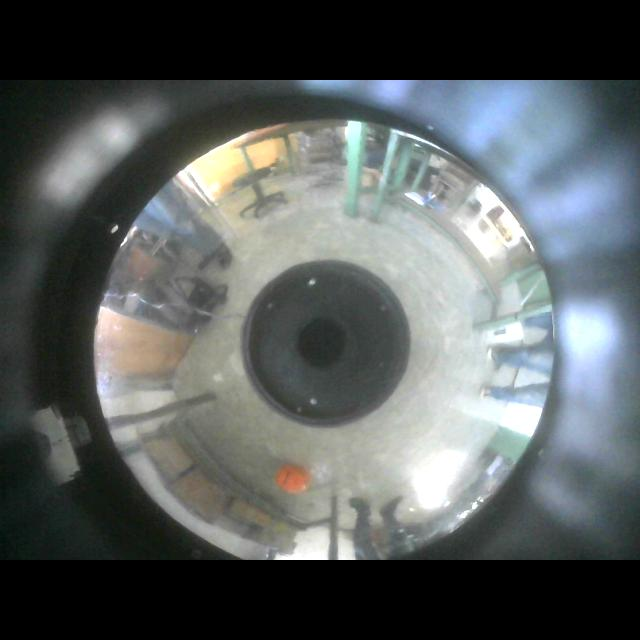bola: (276, 464, 312, 493)
